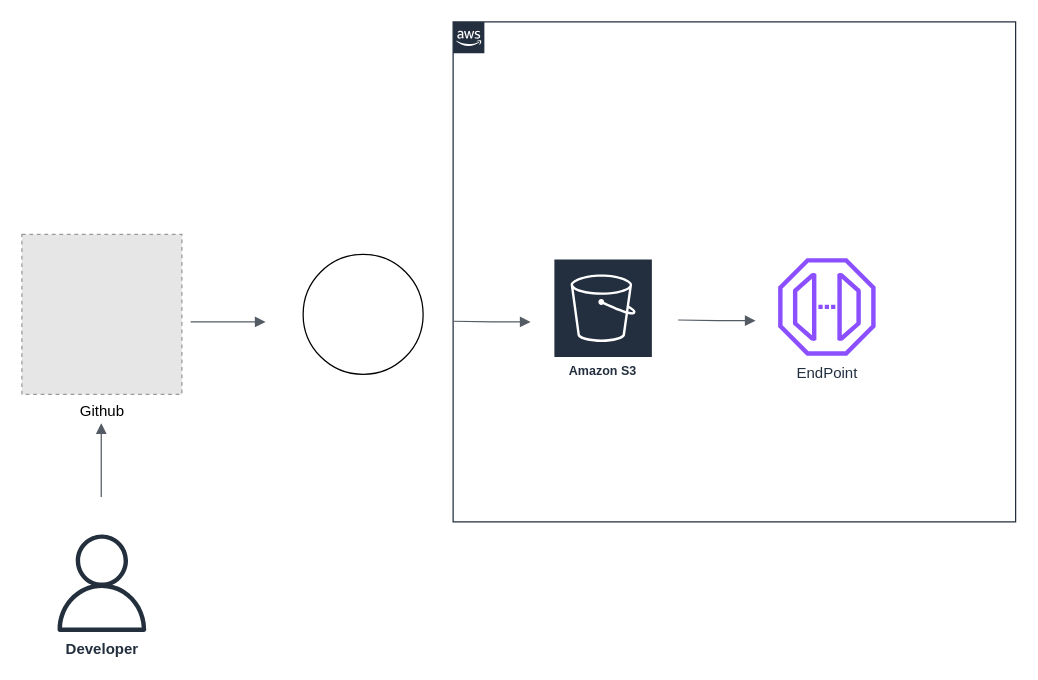
Some shapes in this 1038 by 680 pixel diagram are drawn without their labels. Grey dashed boxes stand in for pictures. Each missing label, with the box of its shape:
AWS Cloud: (452, 21, 1016, 522)
CI/CD Workflow (GitHub Actions): (302, 253, 423, 374)
